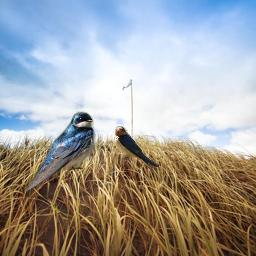Swallow: (25, 110, 96, 193), (114, 126, 166, 184)
